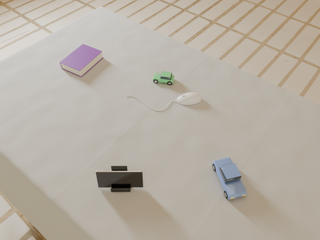book: (60, 44, 103, 77)
mouse: (177, 93, 201, 105)
phone: (96, 171, 143, 187)
toy_car: (213, 158, 247, 199), (153, 71, 174, 85)
